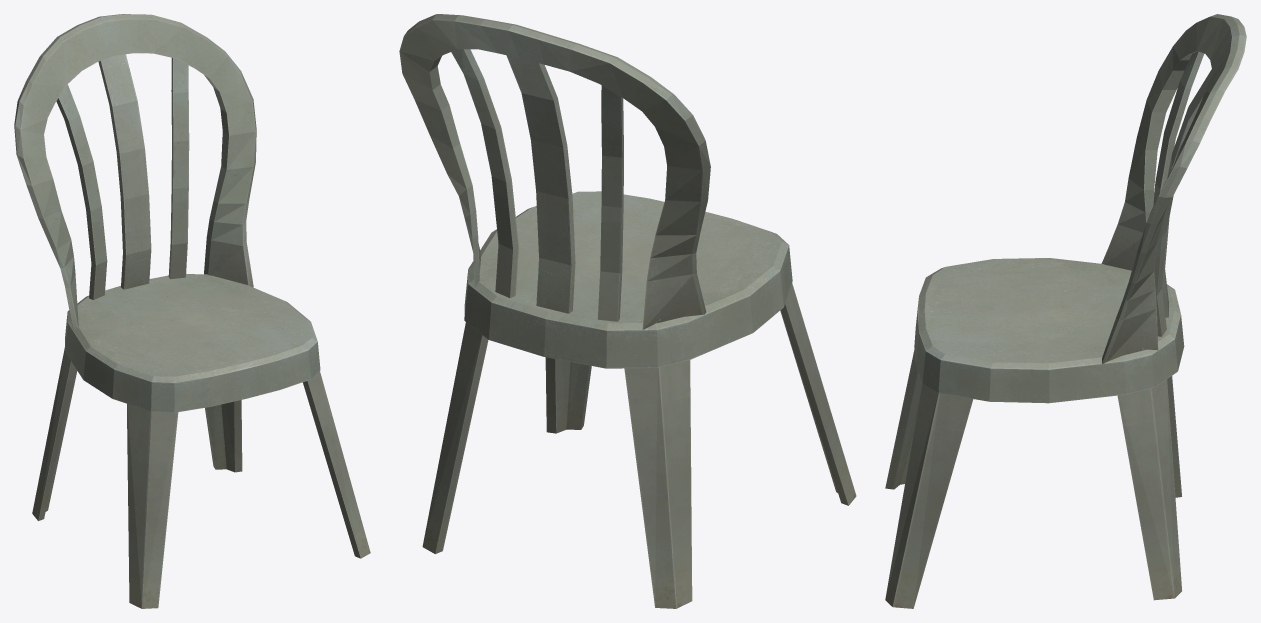
The model's file is Chair (White Plastic) (DR).obj.
The picture shows the model from 3 angles, left to right: view 1: azimuth 30°, elevation 25°; view 2: azimuth 150°, elevation 25°; view 3: azimuth 270°, elevation 25°; orthographic projection. The views are drawn at different scales.
Parts seen in each view (by area): view 1: rdmobj01_model\om\om0; view 2: rdmobj01_model\om\om0; view 3: rdmobj01_model\om\om0.
Part boxes in pixels (x1,y1,x2,y2): rdmobj01_model\om\om0: (14,14,370,608); rdmobj01_model\om\om0: (399,14,856,608); rdmobj01_model\om\om0: (885,14,1246,608).
Size of the model in its own units: 0.6733 by 1.23 by 0.7917.
